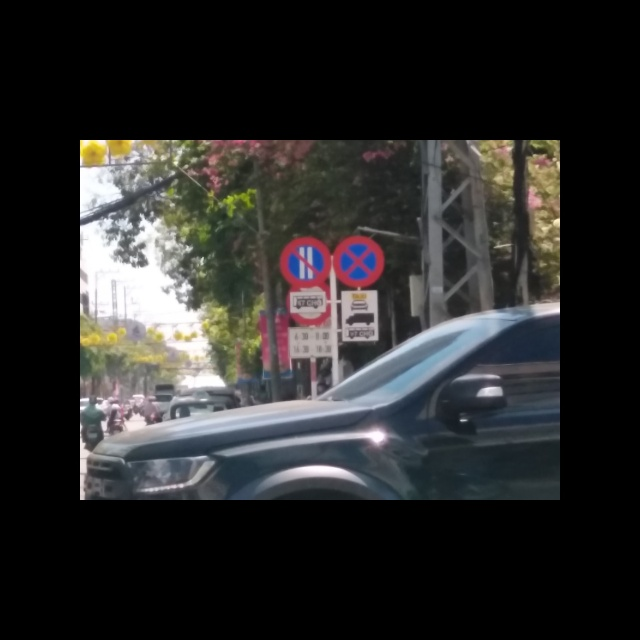Cấm dừng xe và đỗ xe: (332, 235, 386, 287)
Cấm đỗ xe ngày chẵn: (278, 236, 331, 287)
